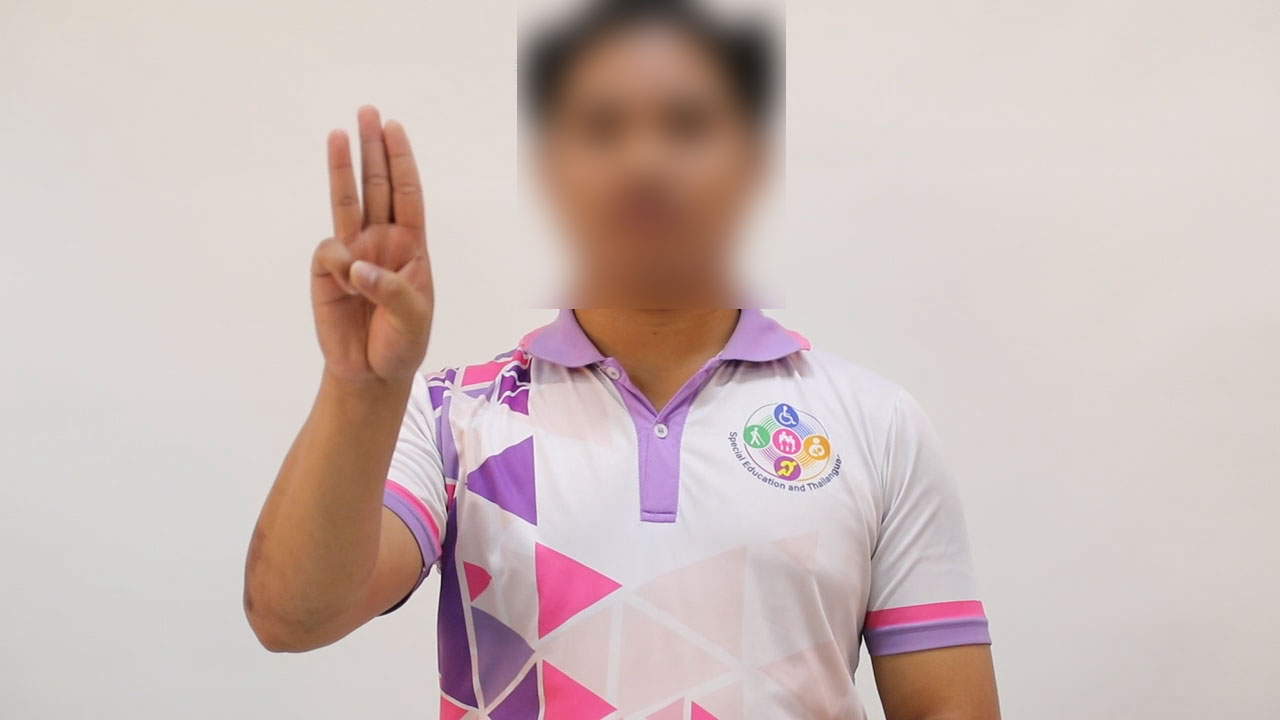wor: (300, 100, 443, 397)
